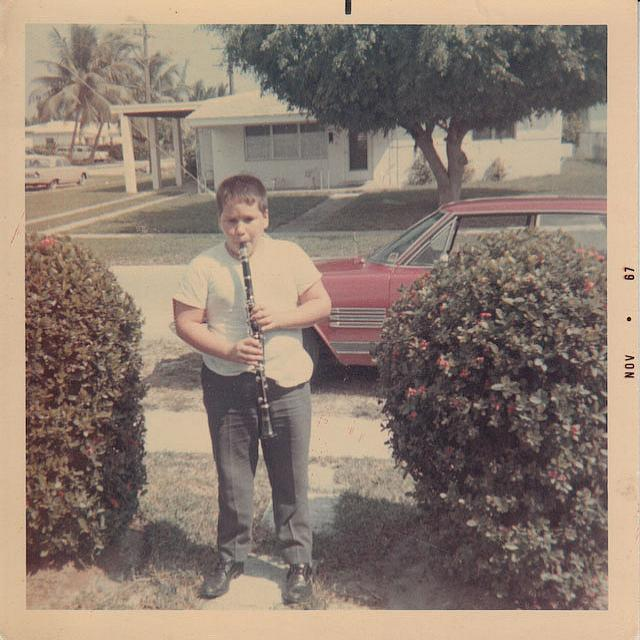clarinet: (237, 239, 279, 442)
